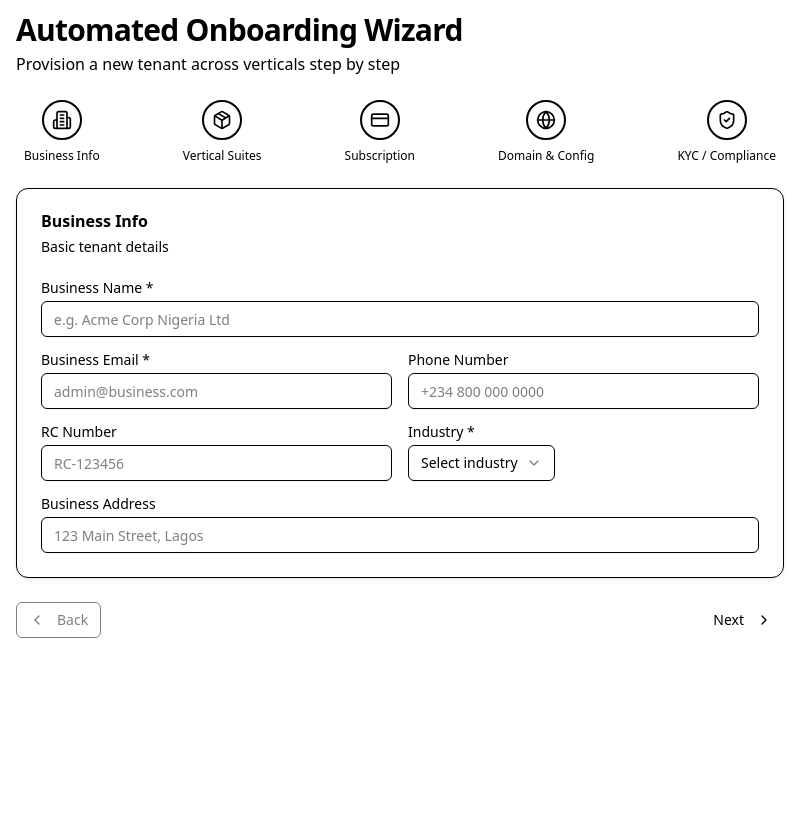
Automated Onboarding Wizard (QA-SUP-3) › can go back from step 2 to step 1
# Fill step 1
Type "Acme Corp" into the field labelled "Business Name *". click: [400, 319]
box: left=41, top=301, right=759, bottom=337
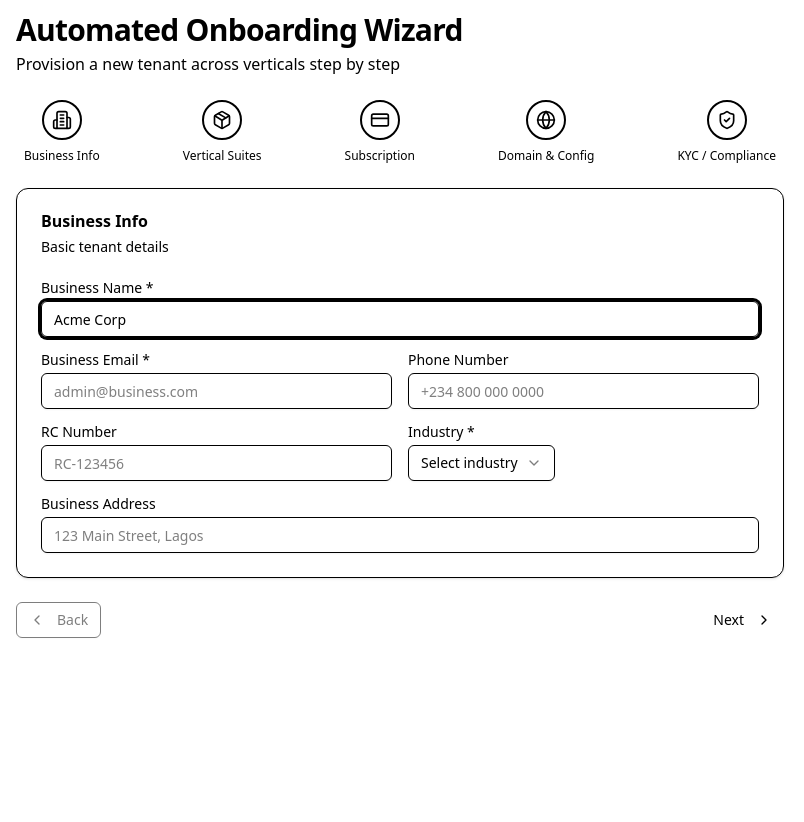
Type "admin@acmecorp.ng" into the field labelled "Business Email *". click: [216, 391]
box: left=41, top=373, right=392, bottom=409
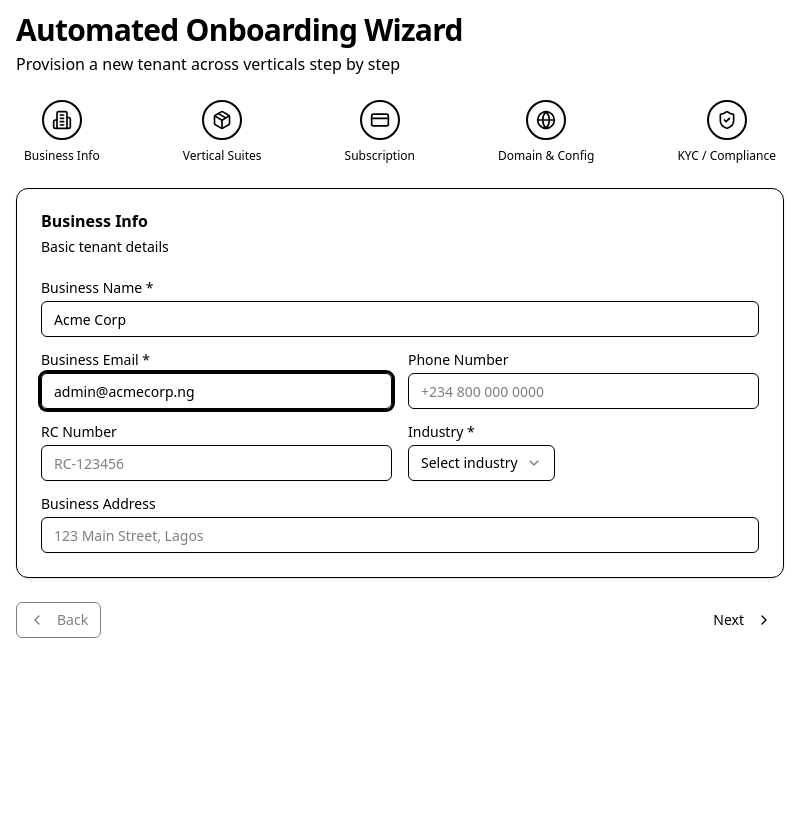
Click the dropdown. click: [481, 463]
box: left=408, top=445, right=555, bottom=481
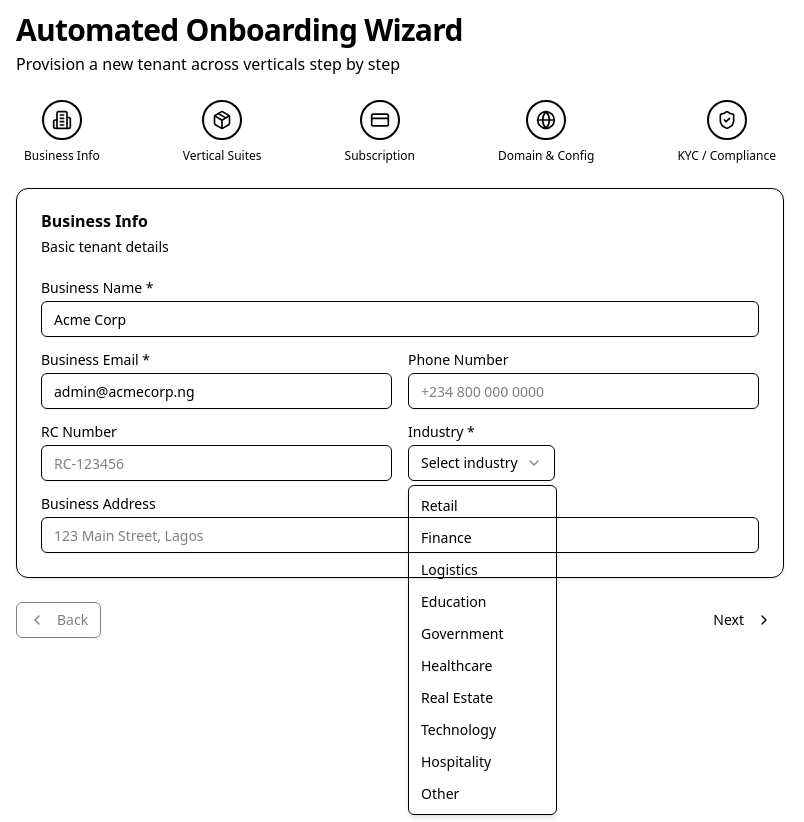
Click the option "Retail". click: [439, 506]
box: left=421, top=496, right=458, bottom=515
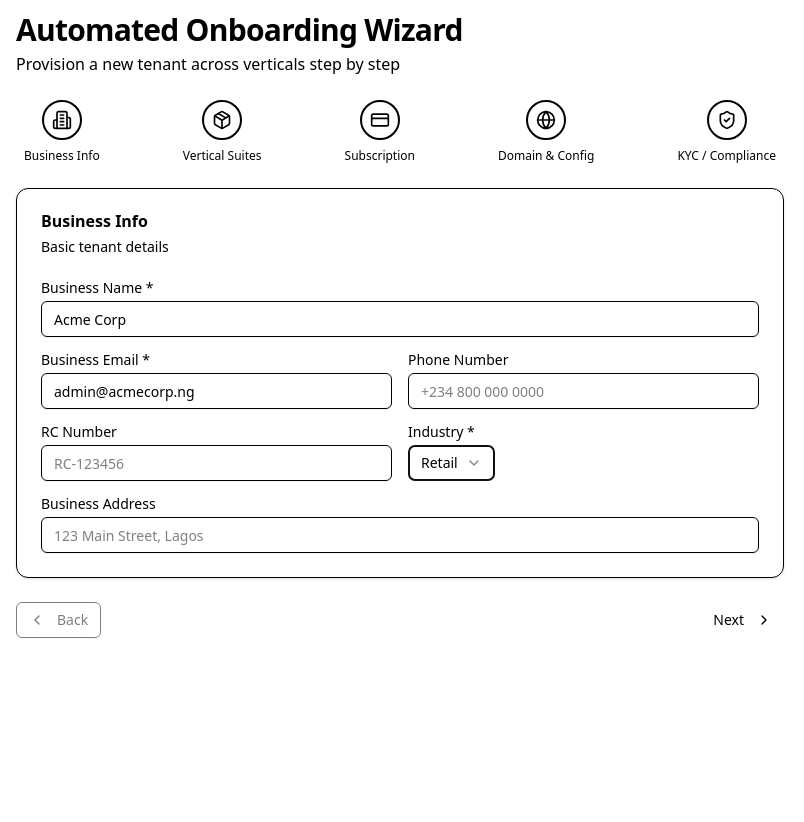
Click the button "Next". click: [743, 620]
box: left=701, top=602, right=784, bottom=638
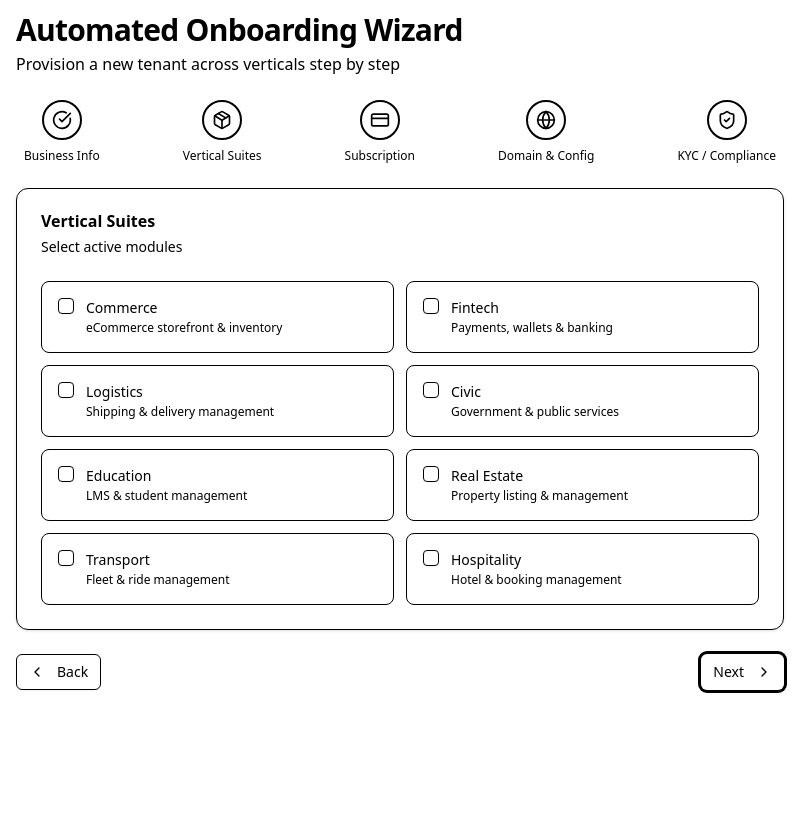
Result: the text "Select active modules" is shown at left=41, top=237, right=182, bottom=256
#  Go back
Click the button "Back". click: [59, 672]
box: left=16, top=654, right=101, bottom=690
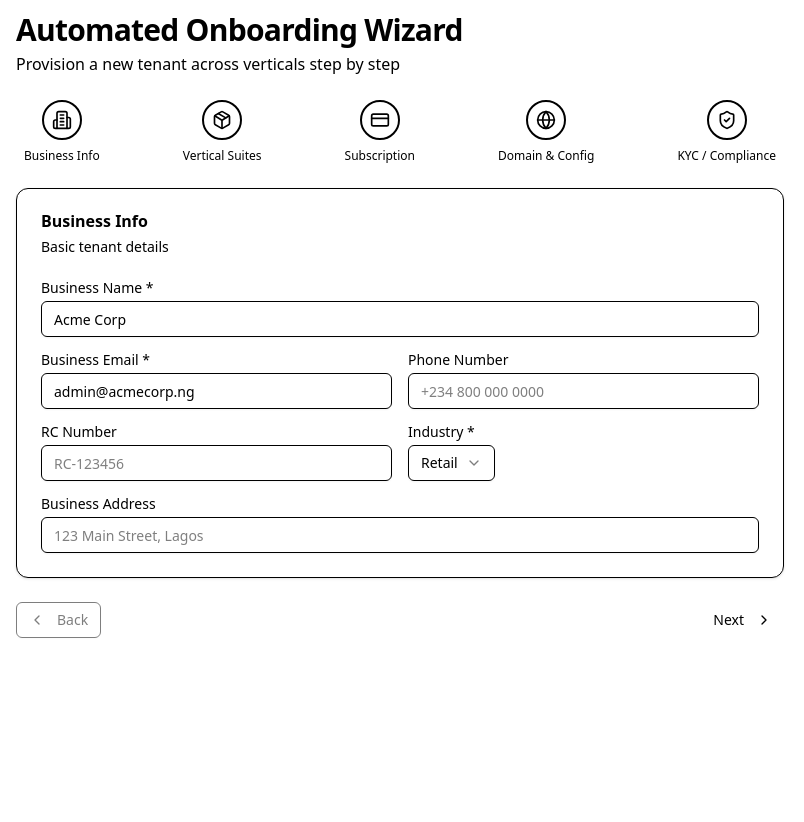
Result: the field labelled "Business Name *" is shown at left=41, top=301, right=759, bottom=337
